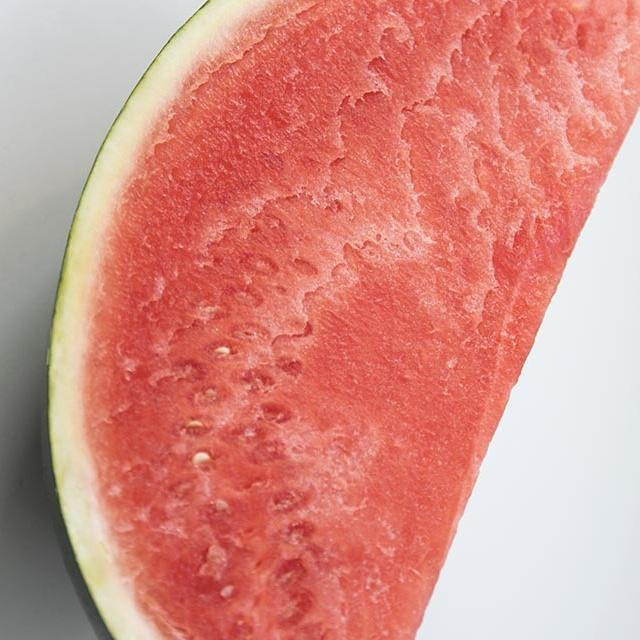watermelon: (57, 0, 640, 640)
